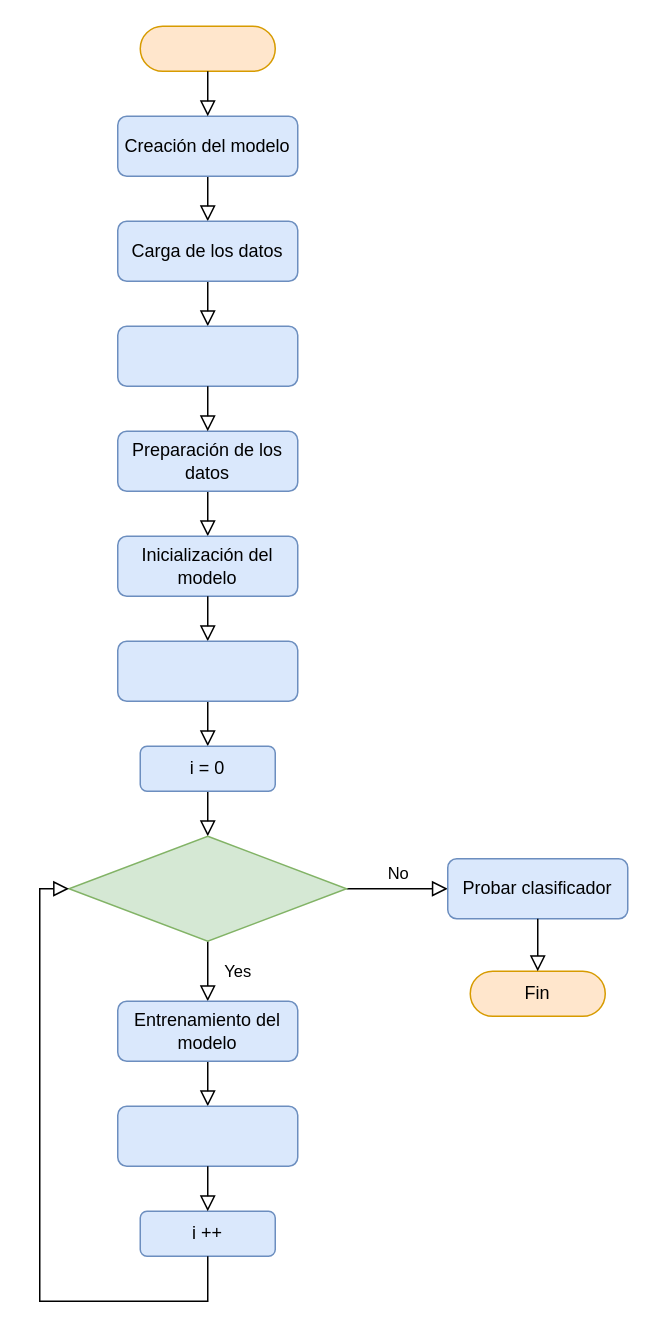
The diagram is 654 pixels wide and 1343 high, and some of its shapes have lost their labels. The centre of each missing label's shape, as x and y in pixels:
Adición de categorías: [207,355]
División de los datos en lotes: [207,670]
Evaluación del modelo: [207,1135]
i <= número de lotes: [207,888]
Inicio: [207,48]
